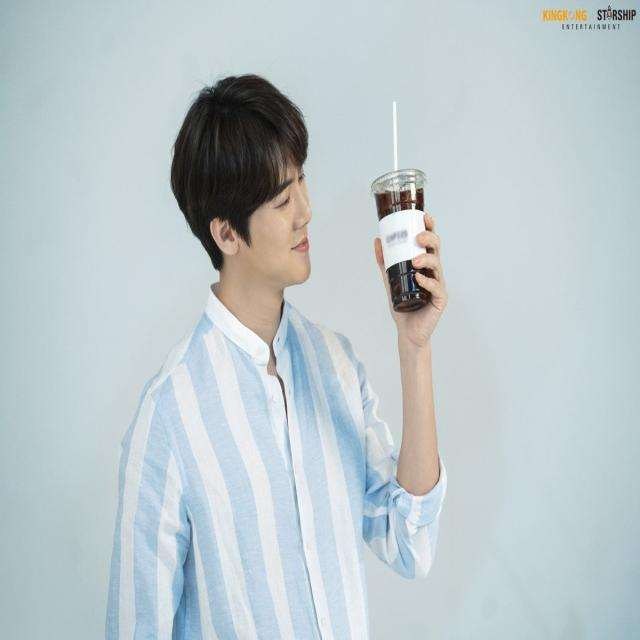cup: (371, 167, 431, 312)
